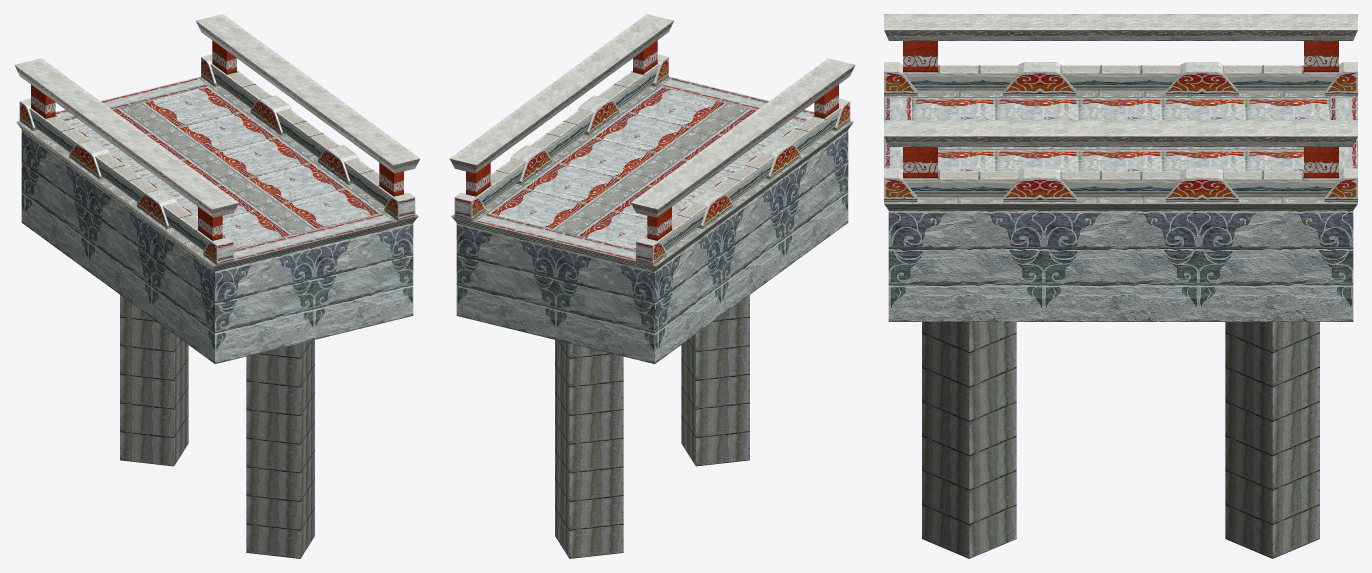
Rendered from RisingPlatformLarge.obj.
3 views of the same model, side by side, from view 1: azimuth 30°, elevation 25°; view 2: azimuth 150°, elevation 25°; view 3: azimuth 270°, elevation 25° (orthographic). The views are drawn at different scales.
Size of the model in its own units: 305 by 540 by 500.
Materials: 9 (9 with a texture image).
